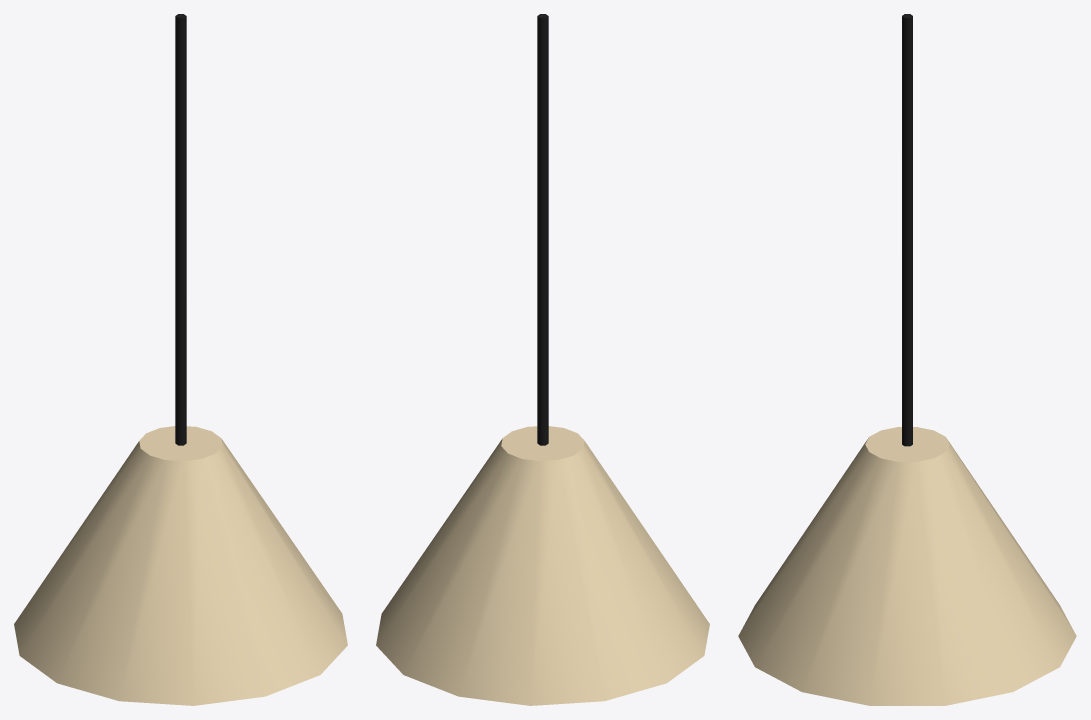
File: pendant.obj
3 renders of one model, left to right at view 1: azimuth 30°, elevation 25°; view 2: azimuth 150°, elevation 25°; view 3: azimuth 270°, elevation 25°, orthographic.
Parts seen in each view (by area): view 1: pendant_1, pendant_0; view 2: pendant_1, pendant_0; view 3: pendant_1, pendant_0.
Part boxes in pixels (<box>): pendant_1: <box>14,426,347,705</box>; pendant_0: <box>175,14,186,445</box>; pendant_1: <box>376,426,709,705</box>; pendant_0: <box>537,14,548,445</box>; pendant_1: <box>738,427,1076,705</box>; pendant_0: <box>902,14,912,446</box>.
Size of the model in its own units: 0.468 by 0.97 by 0.48.
